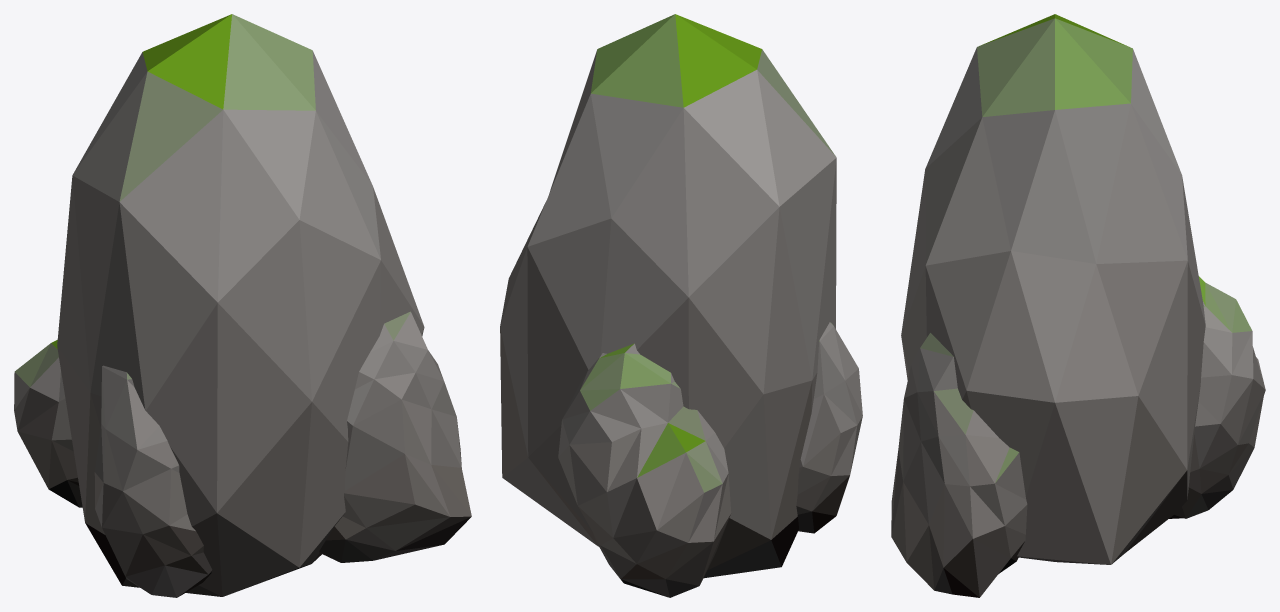
File: batu_boulder_limestone_517008.glb
The picture shows the model from 3 angles, left to right: view 1: azimuth 30°, elevation 25°; view 2: azimuth 150°, elevation 25°; view 3: azimuth 270°, elevation 25°; orthographic projection. The views are drawn at different scales.
Parts seen in each view (by area): view 1: Batu_Jeram_Sungai; view 2: Batu_Jeram_Sungai; view 3: Batu_Jeram_Sungai.
Boxes of the visible parts, x1,y1,x2,y2 form: Batu_Jeram_Sungai: [14, 14, 471, 597]; Batu_Jeram_Sungai: [500, 14, 862, 597]; Batu_Jeram_Sungai: [891, 14, 1265, 597].
Bounding box in the file's own units: 3.47 × 5.3 × 3.4.
